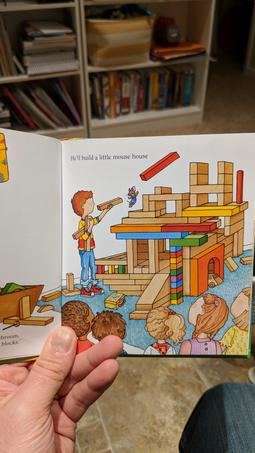text block: (68, 146, 150, 163), (1, 331, 37, 352)
